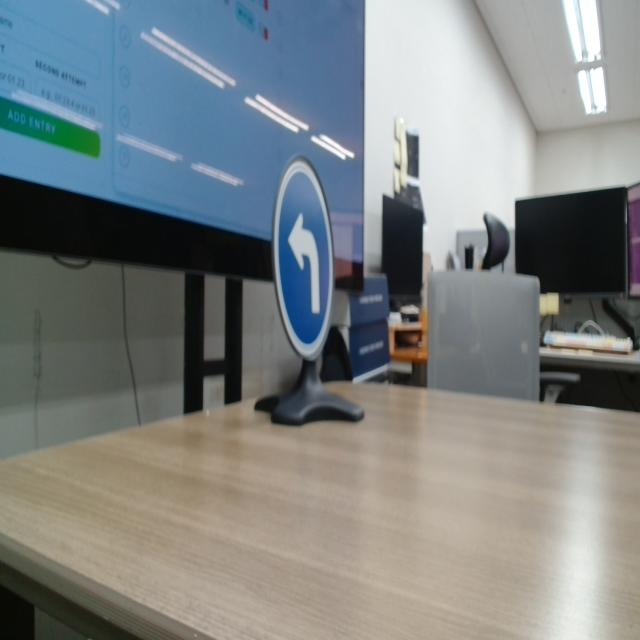left_direction: (266, 153, 339, 370)
